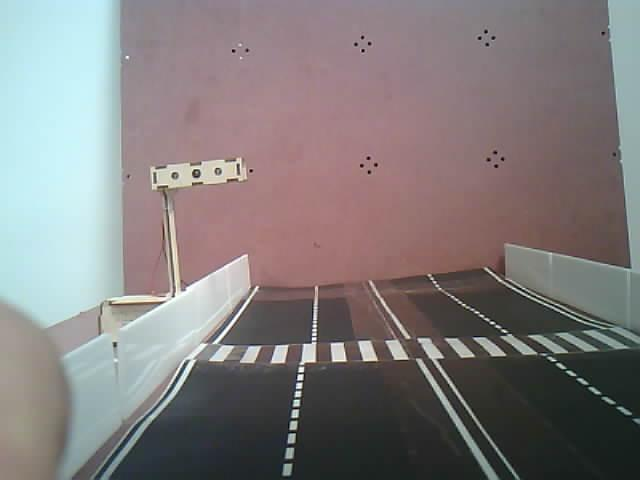crosswalk: (169, 325, 640, 369)
no: (111, 145, 287, 312)
